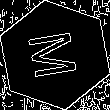M_E: (25, 28, 85, 82)
